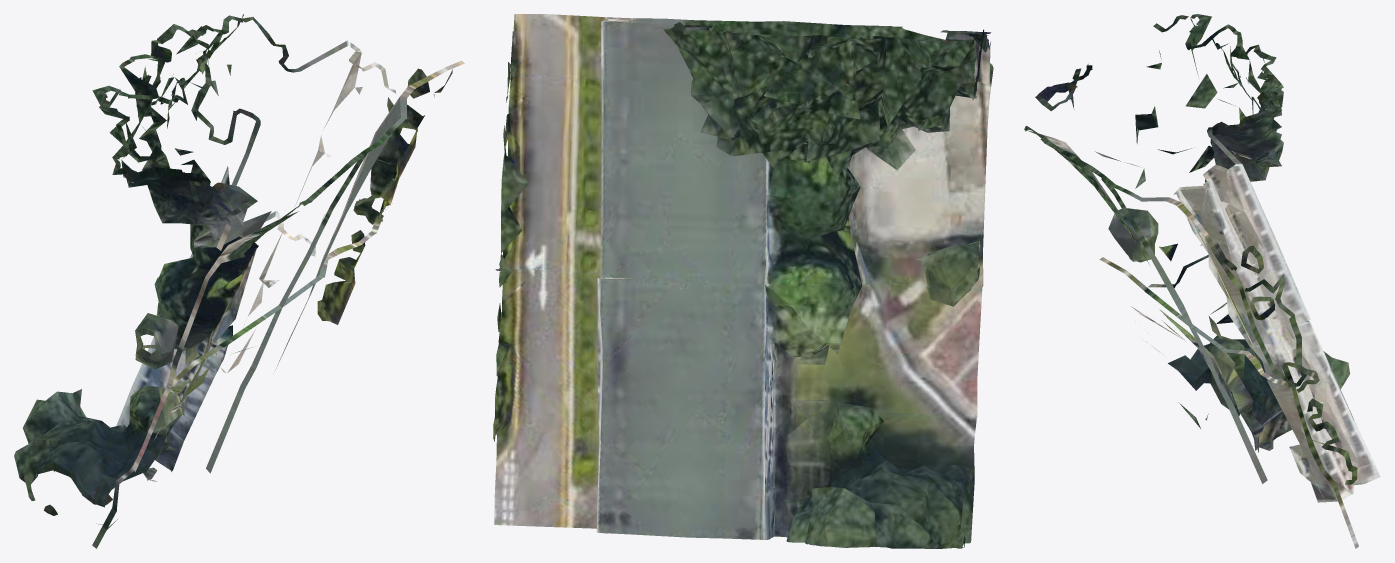
Rendered from AJVsH2za5v3GMILU2D3dtAsEEHKcwWlD7ITLpLf_7DGDfrTJXFW-XBpJdJp12f6b_eOBnXk5rO7izDgh75DRpaEZHbtvauvSNm1RkNubSekJ4XVDhgEMxp2T6YWN8kAeOOBhQr7I_otAoyA10zyWhtfRXHtl.glb.
3 views of the same model, side by side, from view 1: azimuth 30°, elevation 25°; view 2: azimuth 150°, elevation 25°; view 3: azimuth 270°, elevation 25° (orthographic). The views are drawn at different scales.
Size of the model in its own units: 40.74 by 42.4 by 33.12.
Materials: 1 (1 with a texture image).
